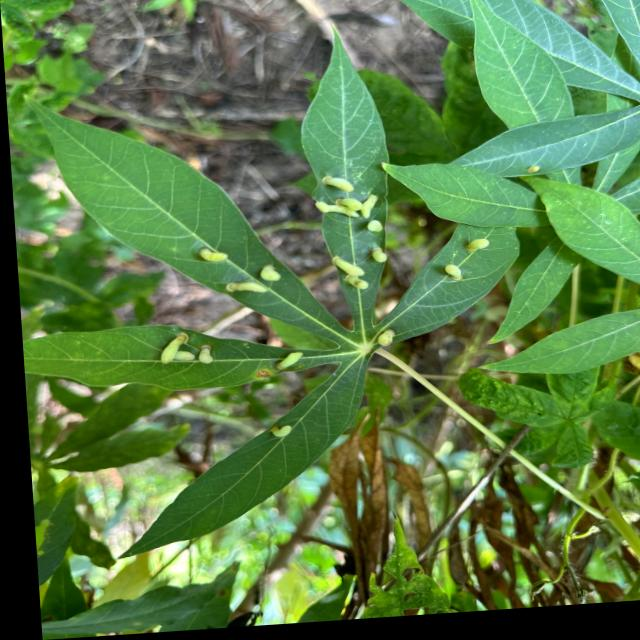Maleza: (478, 357, 640, 476)
Mosca: (303, 165, 391, 221), (221, 250, 293, 303), (154, 319, 224, 370), (323, 245, 373, 308), (429, 247, 491, 289), (365, 195, 400, 268), (363, 322, 418, 365), (182, 230, 232, 269), (268, 342, 311, 384), (264, 405, 299, 444), (521, 156, 560, 188), (464, 221, 500, 254)
